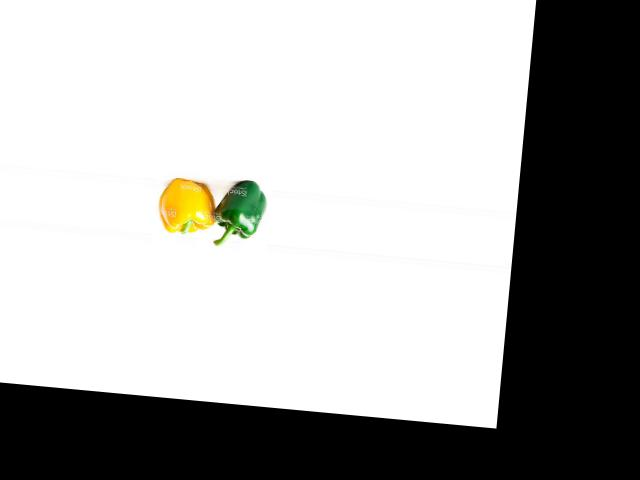bell_pepper: (212, 169, 273, 244)
